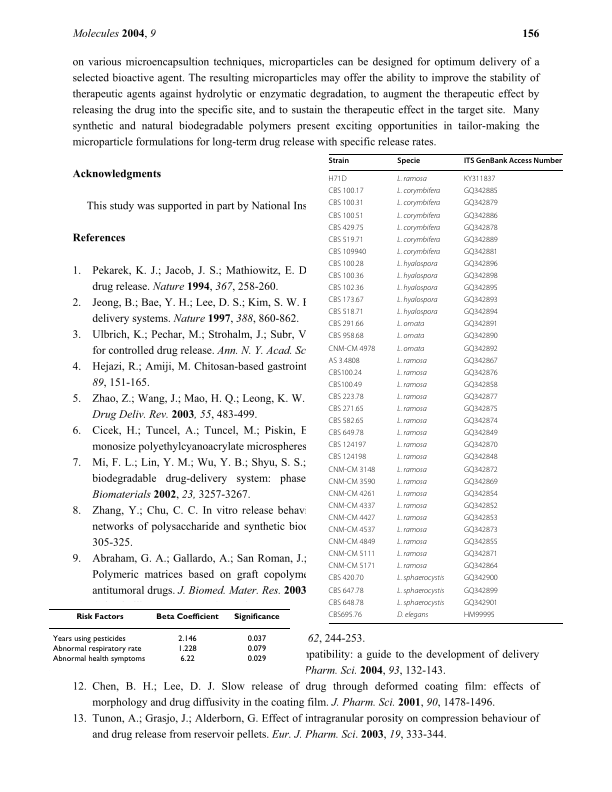borderless: (327, 152, 563, 623), (47, 607, 291, 672)
cell: (463, 156, 563, 166), (52, 654, 146, 664), (52, 644, 142, 654), (52, 634, 126, 643), (155, 612, 219, 621), (396, 573, 445, 583), (396, 186, 441, 196), (396, 198, 441, 208), (75, 612, 124, 621), (396, 586, 445, 595), (396, 598, 445, 607), (328, 525, 376, 534), (328, 537, 376, 546), (328, 549, 376, 558), (233, 612, 280, 621), (396, 271, 438, 281), (396, 283, 438, 293), (396, 295, 438, 305), (396, 307, 438, 317), (396, 211, 441, 220), (396, 223, 441, 232), (396, 235, 441, 244), (396, 247, 441, 256), (328, 344, 376, 352), (328, 465, 376, 473), (328, 477, 376, 485), (328, 489, 376, 497), (328, 501, 376, 509), (328, 513, 376, 521), (328, 562, 376, 570), (396, 259, 438, 268), (328, 271, 364, 280), (463, 271, 499, 280), (328, 283, 364, 292), (463, 283, 499, 292), (328, 295, 364, 304), (463, 295, 499, 304), (328, 404, 364, 413), (463, 404, 499, 413), (328, 416, 364, 425), (463, 416, 499, 425), (328, 428, 364, 437), (463, 428, 499, 437), (463, 525, 499, 534), (463, 537, 499, 546), (463, 549, 499, 558), (396, 174, 428, 184), (396, 392, 428, 402), (396, 404, 428, 414), (396, 416, 428, 426), (396, 428, 428, 438), (396, 440, 428, 450), (396, 452, 428, 462), (396, 513, 428, 523), (396, 525, 428, 535), (396, 537, 428, 547), (396, 549, 428, 559), (396, 561, 428, 571), (328, 247, 367, 255), (328, 441, 367, 449), (328, 453, 367, 461), (463, 174, 496, 183), (396, 610, 429, 619), (327, 187, 364, 195), (327, 199, 364, 207), (327, 211, 364, 219), (396, 319, 425, 329), (463, 187, 499, 195), (463, 199, 499, 207), (463, 211, 499, 219), (328, 223, 364, 231), (463, 223, 499, 231), (328, 235, 364, 243), (463, 235, 499, 243), (463, 247, 499, 255), (328, 259, 364, 267), (463, 259, 499, 267), (328, 308, 364, 316), (463, 308, 499, 316), (328, 320, 364, 328), (463, 320, 499, 328), (328, 332, 364, 340), (463, 332, 499, 340), (463, 344, 499, 352), (396, 356, 428, 365), (463, 356, 499, 364), (396, 368, 428, 377), (463, 368, 499, 376), (396, 380, 428, 389), (463, 380, 499, 388), (328, 392, 364, 400), (463, 392, 499, 400), (463, 441, 499, 449), (463, 453, 499, 461), (396, 465, 428, 474), (463, 465, 499, 473), (396, 477, 428, 486), (463, 477, 499, 485), (396, 489, 428, 498), (463, 489, 499, 497), (396, 501, 428, 510), (463, 501, 499, 509), (463, 513, 499, 521), (463, 562, 499, 570), (328, 574, 364, 582), (463, 574, 499, 582), (328, 586, 364, 594), (463, 586, 499, 594), (328, 598, 364, 606), (463, 598, 499, 606), (328, 368, 363, 376), (328, 380, 363, 388), (328, 610, 363, 618), (328, 356, 361, 364), (463, 610, 496, 618), (396, 332, 425, 341), (396, 344, 425, 353), (396, 156, 421, 166), (327, 156, 350, 166), (246, 644, 267, 654), (246, 654, 267, 664), (177, 644, 197, 654), (246, 634, 267, 643), (327, 174, 348, 183), (177, 634, 197, 643), (179, 654, 195, 664)
